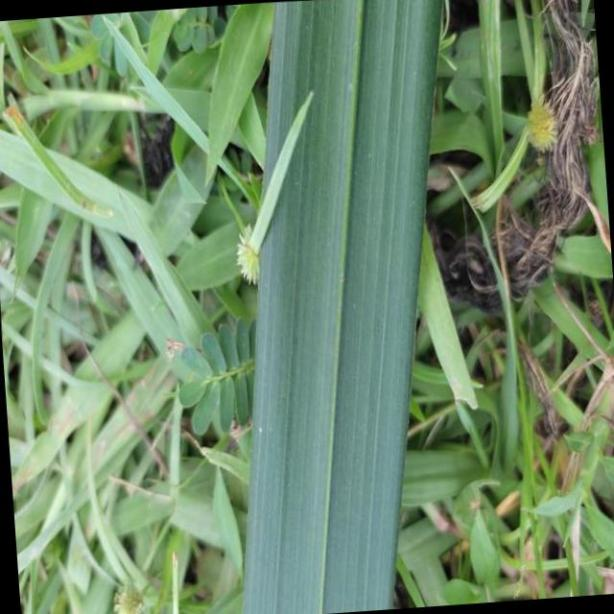Healthy: (245, 3, 452, 614)
